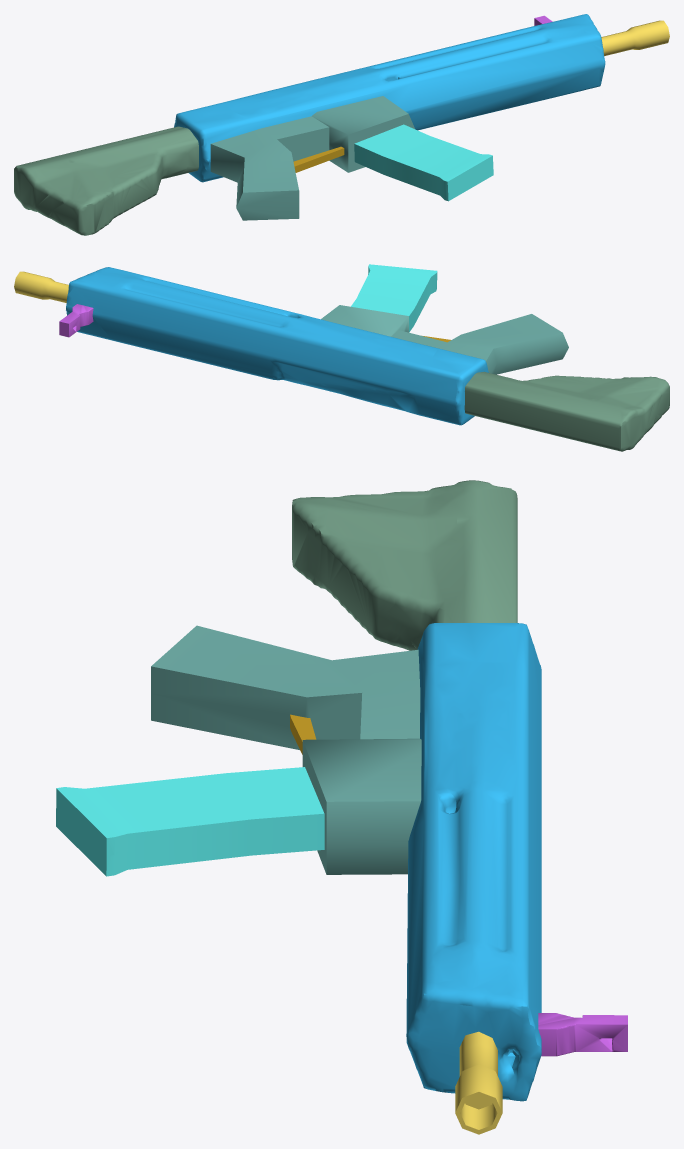
3 renders of one model, top to bottom at view 1: azimuth 30°, elevation 25°; view 2: azimuth 150°, elevation 25°; view 3: azimuth 270°, elevation 25°, orthographic. The views are drawn at different scales.
Visible parts, largest first — view 1: Cylinder_Material.001_0, Cylinder_Material.004_0.166, split_parent_1, Cylinder_Material.004_0.132, Cylinder_Material.004_0, Cylinder_Material.005_0; view 2: Cylinder_Material.001_0, Cylinder_Material.004_0.166, split_parent_1, Cylinder_Material.004_0.132, Cylinder_Material.004_0, Cylinder_Material.004_0.076; view 3: Cylinder_Material.001_0, split_parent_1, Cylinder_Material.004_0.166, Cylinder_Material.004_0.132, Cylinder_Material.004_0, Cylinder_Material.004_0.076.
Boxes of the visible parts, box(x1,y1,x2,y2) form: Cylinder_Material.001_0: box(174, 14, 605, 182); Cylinder_Material.004_0.166: box(14, 126, 198, 235); split_parent_1: box(210, 96, 414, 220); Cylinder_Material.004_0.132: box(354, 124, 493, 201); Cylinder_Material.004_0: box(601, 20, 669, 55); Cylinder_Material.005_0: box(293, 146, 344, 172); Cylinder_Material.001_0: box(66, 267, 488, 425); Cylinder_Material.004_0.166: box(464, 371, 669, 451); split_parent_1: box(321, 305, 568, 374); Cylinder_Material.004_0.132: box(351, 264, 437, 332); Cylinder_Material.004_0: box(14, 271, 68, 302); Cylinder_Material.004_0.076: box(59, 304, 93, 337); Cylinder_Material.001_0: box(406, 623, 541, 1101); split_parent_1: box(151, 625, 421, 874); Cylinder_Material.004_0.166: box(292, 480, 517, 650); Cylinder_Material.004_0.132: box(56, 767, 324, 876); Cylinder_Material.004_0: box(455, 1031, 502, 1134); Cylinder_Material.004_0.076: box(538, 1013, 627, 1056).
Bounding box in the file's own units: 1 × 0.0927 × 0.4039.
